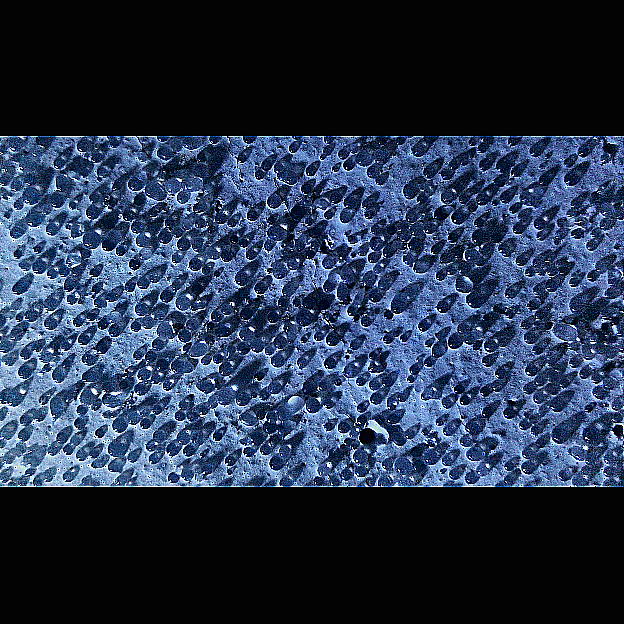GrassBeadSeg: (1, 201, 604, 460), (146, 135, 593, 484), (87, 171, 599, 441), (17, 160, 509, 425), (47, 193, 567, 443), (162, 181, 614, 463), (42, 158, 574, 396), (10, 162, 599, 376), (3, 136, 585, 352), (22, 267, 620, 475), (22, 175, 470, 445), (141, 145, 593, 411), (30, 256, 567, 478), (57, 139, 516, 394), (35, 161, 428, 446), (51, 158, 579, 367), (264, 160, 612, 472), (199, 176, 557, 475), (165, 194, 524, 486), (1, 167, 380, 439), (218, 135, 591, 411), (194, 135, 550, 416), (49, 163, 490, 383), (128, 187, 526, 429), (79, 278, 579, 467), (31, 231, 485, 436), (126, 178, 543, 393), (20, 192, 508, 373), (99, 311, 614, 476), (234, 153, 564, 408), (184, 277, 619, 470), (109, 181, 502, 388), (77, 177, 578, 338), (30, 271, 545, 425), (211, 236, 597, 440), (154, 140, 544, 339), (41, 151, 388, 372), (149, 169, 452, 415), (36, 211, 419, 405), (102, 197, 415, 431), (74, 221, 408, 439), (276, 195, 535, 474), (32, 245, 390, 443), (179, 300, 572, 480), (311, 266, 619, 485), (140, 167, 427, 402), (16, 238, 318, 460), (286, 263, 585, 487), (143, 287, 545, 452), (28, 343, 540, 471), (244, 210, 483, 484), (170, 219, 612, 367), (172, 251, 529, 428), (285, 260, 595, 463), (241, 135, 575, 319), (160, 223, 523, 390), (50, 152, 315, 380), (354, 247, 614, 477), (168, 253, 604, 390), (276, 244, 512, 486), (6, 253, 378, 404), (126, 151, 583, 269), (168, 290, 483, 461), (225, 220, 445, 464), (195, 258, 452, 465), (286, 143, 445, 476), (146, 280, 516, 419), (120, 212, 383, 403), (11, 284, 348, 433), (340, 160, 563, 378), (212, 217, 392, 486), (60, 374, 508, 482), (265, 226, 546, 398), (248, 213, 438, 465), (353, 153, 571, 368), (34, 231, 546, 320), (48, 224, 235, 467), (345, 196, 532, 439), (159, 231, 547, 344), (42, 218, 503, 311), (143, 163, 288, 457), (98, 196, 376, 347), (23, 381, 501, 467), (128, 146, 581, 234), (96, 375, 602, 453), (320, 324, 578, 476), (99, 240, 409, 366), (17, 239, 335, 358), (425, 166, 567, 432), (205, 208, 447, 364), (205, 234, 408, 408), (32, 315, 333, 431), (261, 313, 545, 433), (264, 194, 515, 324), (299, 166, 579, 281), (358, 194, 468, 486), (79, 250, 315, 383), (24, 397, 453, 470), (265, 232, 457, 394), (326, 192, 618, 296), (244, 355, 535, 459), (93, 249, 253, 437), (477, 167, 570, 481), (393, 268, 534, 475), (6, 282, 230, 411), (206, 214, 456, 329), (206, 135, 442, 255), (294, 295, 475, 447), (11, 189, 349, 270), (155, 235, 357, 370), (45, 257, 335, 351), (23, 259, 453, 322), (43, 223, 381, 302), (86, 178, 181, 459), (42, 207, 259, 330), (134, 278, 320, 413), (216, 337, 596, 402), (313, 223, 565, 321), (184, 263, 545, 330), (362, 207, 617, 299), (148, 277, 472, 349), (409, 143, 493, 416), (121, 172, 576, 222), (160, 332, 538, 391), (237, 381, 461, 480), (176, 192, 257, 455), (237, 365, 538, 435), (337, 339, 487, 479), (211, 235, 479, 313), (24, 213, 133, 403), (74, 140, 332, 219), (92, 135, 200, 308), (340, 268, 595, 341), (75, 143, 357, 209), (93, 238, 381, 301), (140, 250, 368, 329), (7, 328, 165, 441), (369, 154, 469, 332), (252, 169, 468, 248), (441, 379, 622, 473), (8, 227, 117, 378), (458, 219, 545, 406), (8, 181, 125, 320), (180, 243, 271, 421), (399, 205, 516, 341), (291, 304, 450, 404), (111, 258, 202, 432), (210, 375, 544, 422), (21, 323, 467, 358), (88, 305, 233, 411), (42, 403, 593, 428), (199, 252, 544, 290), (404, 218, 482, 383), (46, 198, 484, 227), (473, 271, 534, 476), (332, 213, 406, 378), (11, 201, 219, 259), (17, 157, 52, 482), (91, 139, 193, 248), (87, 146, 171, 277), (22, 178, 151, 260), (312, 338, 392, 469), (181, 139, 382, 191), (252, 377, 394, 445), (76, 325, 284, 368), (83, 207, 173, 303), (475, 140, 601, 208), (405, 146, 589, 192), (540, 155, 607, 280), (102, 381, 326, 418), (544, 263, 610, 384), (164, 418, 365, 455), (2, 212, 81, 304), (183, 320, 473, 345), (176, 253, 233, 377), (480, 300, 539, 417), (260, 282, 336, 369), (54, 419, 204, 463), (15, 430, 472, 444), (168, 341, 359, 374), (249, 435, 365, 486), (229, 364, 284, 471), (191, 239, 294, 295), (490, 192, 608, 239), (7, 292, 85, 362), (447, 157, 531, 221), (130, 231, 171, 361), (366, 339, 439, 411), (1, 202, 81, 266), (140, 272, 250, 315), (47, 316, 81, 455), (130, 329, 193, 404), (219, 253, 309, 302), (56, 140, 143, 190), (45, 411, 121, 468), (341, 429, 444, 470), (233, 392, 344, 429), (282, 240, 343, 307), (380, 337, 459, 387), (420, 168, 477, 233), (219, 217, 312, 255), (348, 136, 474, 164), (149, 431, 290, 456), (463, 339, 498, 436), (324, 151, 388, 203), (0, 165, 75, 209), (40, 294, 94, 354), (81, 382, 117, 472), (108, 369, 148, 446), (214, 255, 251, 335), (316, 299, 348, 390), (281, 241, 349, 282), (94, 342, 137, 403), (6, 140, 63, 186), (463, 214, 517, 262), (188, 311, 220, 387), (158, 359, 189, 437), (338, 216, 380, 272), (141, 151, 171, 227), (81, 231, 206, 249), (238, 329, 322, 354), (347, 316, 376, 386), (411, 417, 444, 474), (147, 203, 214, 231), (407, 338, 459, 374), (312, 135, 335, 210), (254, 300, 292, 340), (530, 388, 607, 403), (13, 189, 36, 239), (192, 154, 210, 213), (245, 340, 264, 393), (511, 400, 563, 418), (235, 336, 282, 355), (71, 292, 94, 327), (359, 179, 385, 206), (199, 383, 232, 404), (176, 330, 200, 357), (130, 259, 141, 317), (61, 432, 82, 461), (602, 384, 623, 411), (170, 226, 213, 238), (144, 182, 165, 201), (99, 381, 114, 407), (170, 219, 191, 231), (354, 415, 364, 437), (434, 300, 448, 313), (170, 217, 185, 229), (342, 159, 353, 170)
